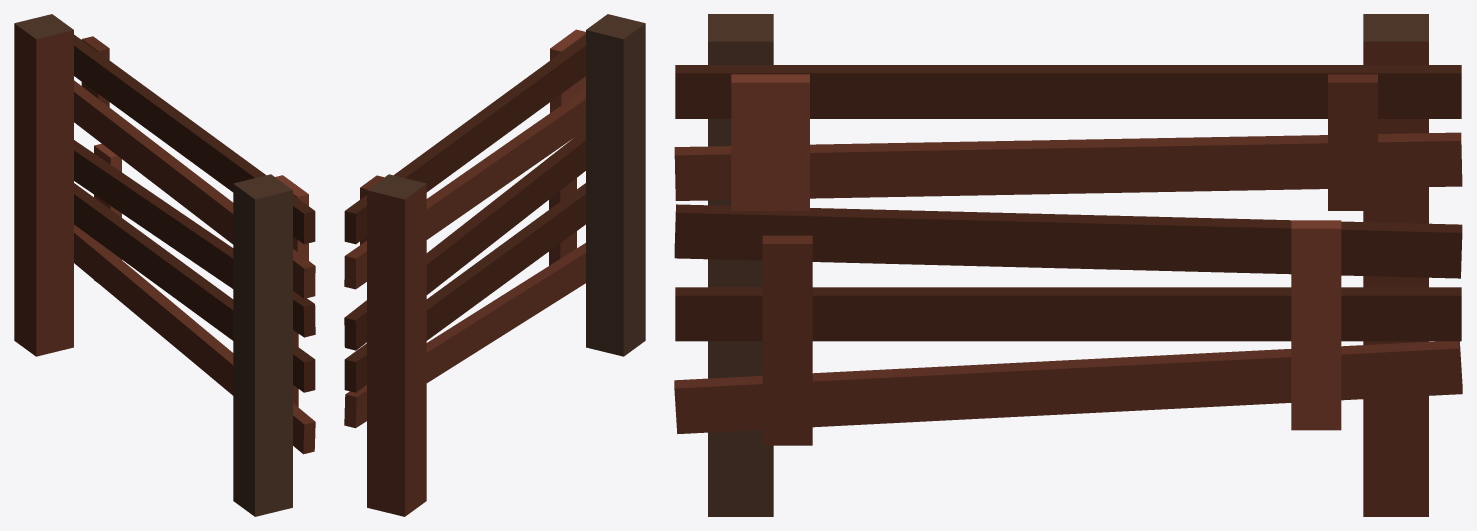
File: SM_Barriers_19.fbx
The picture shows the model from 3 angles, left to right: view 1: azimuth 30°, elevation 25°; view 2: azimuth 150°, elevation 25°; view 3: azimuth 270°, elevation 25°; orthographic projection. The views are drawn at different scales.
Visible parts, largest first — view 1: SM_Barriers_19; view 2: SM_Barriers_19; view 3: SM_Barriers_19.
Part boxes in pixels (x1,y1,x2,y2): SM_Barriers_19: (14, 14, 315, 516); SM_Barriers_19: (344, 14, 645, 516); SM_Barriers_19: (674, 14, 1462, 516).
Size of the model in its own units: 16.29 by 80 by 120.
